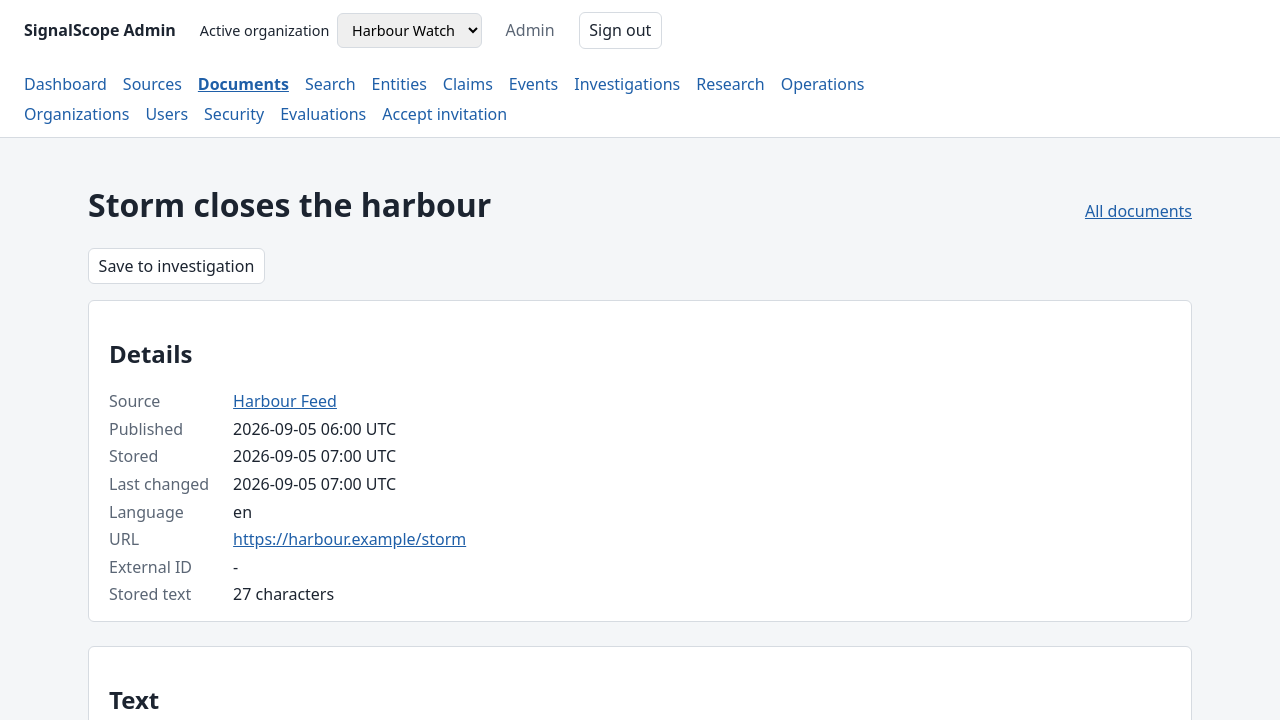
Test case: document detail › does not keep the document after switching organization
Select "River Desk" in the dropdown labelled "Active organization": [410, 30] box x1=337 y1=12 x2=482 y2=48
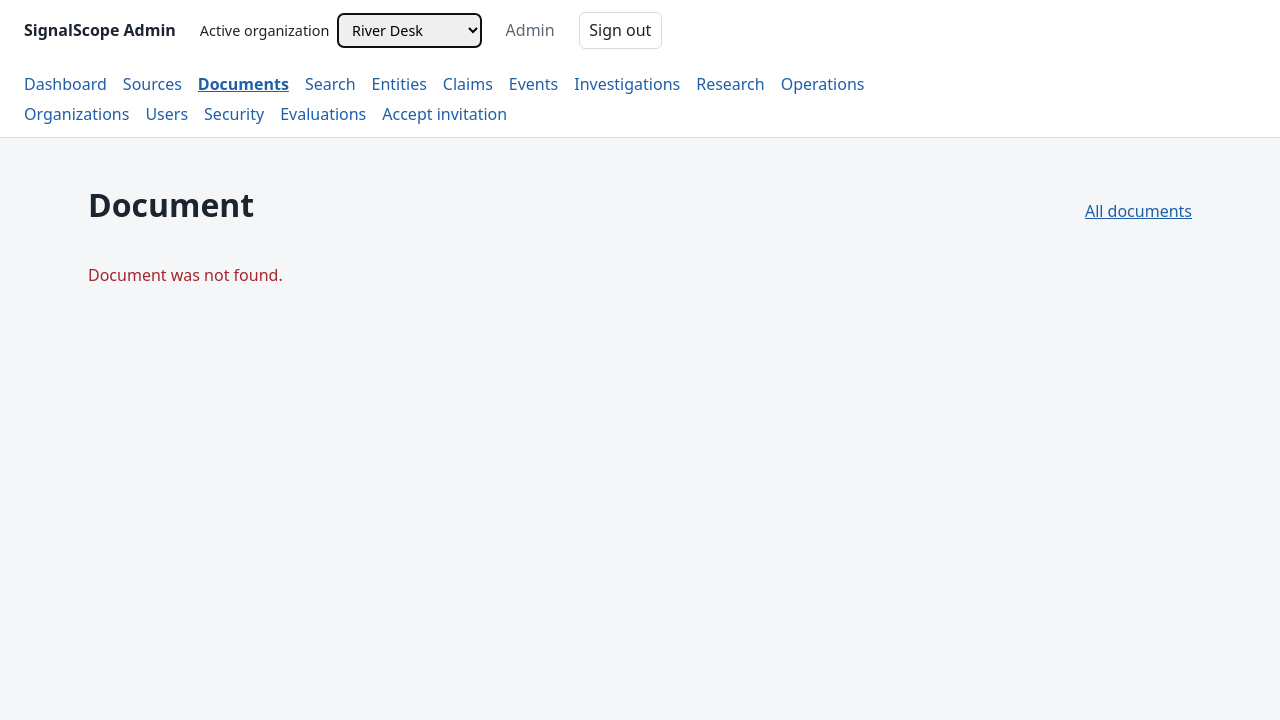
Expected: the text "Document was not found." is shown, x1=88 y1=264 x2=283 y2=286
